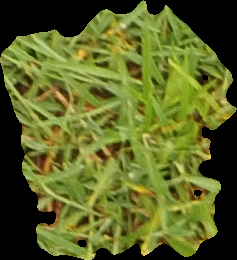grass: (1, 1, 235, 258)
